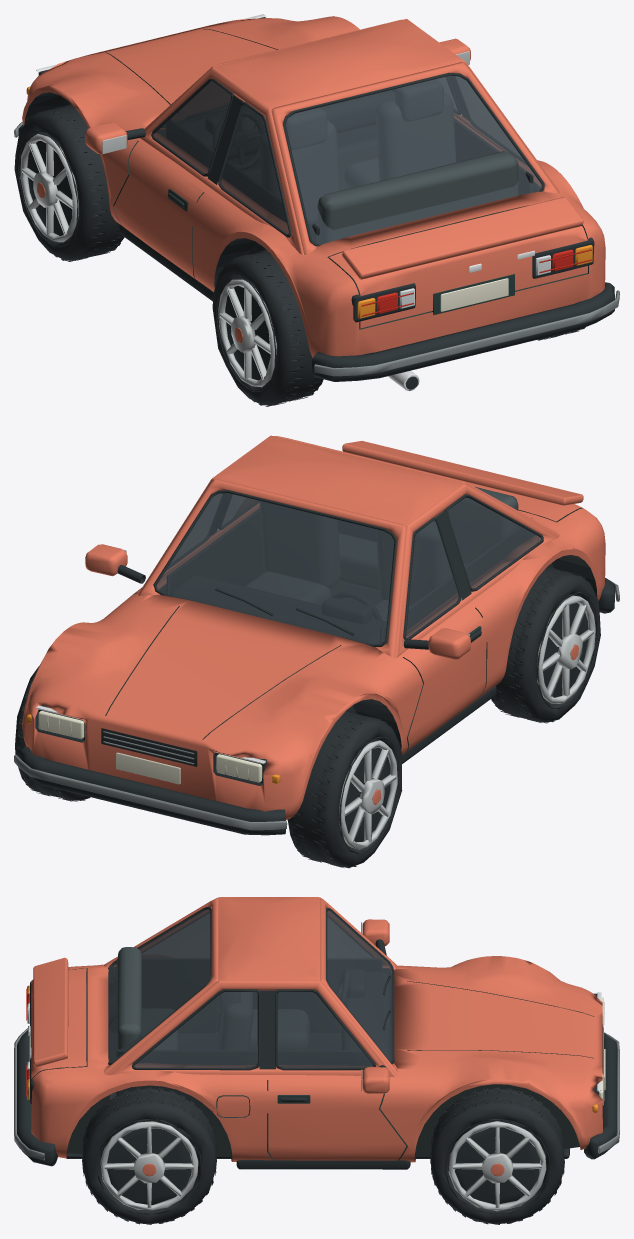
File: comet_lod2.fbx
The picture shows the model from 3 angles, top to bottom: view 1: azimuth 30°, elevation 25°; view 2: azimuth 150°, elevation 25°; view 3: azimuth 270°, elevation 25°; orthographic projection. The views are drawn at different scales.
Visible parts, largest first — view 1: Body, Wheel_RL_Mesh, Wheel_FL_Mesh; view 2: Body, Wheel_FL_Mesh, Wheel_RL_Mesh, Wheel_FR_Mesh; view 3: Body, Wheel_RR_Mesh, Wheel_FR_Mesh.
Part boxes in pixels (bbox=[...]): Body: bbox=[14, 14, 619, 391]; Wheel_RL_Mesh: bbox=[212, 250, 323, 406]; Wheel_FL_Mesh: bbox=[14, 104, 124, 261]; Body: bbox=[14, 435, 619, 835]; Wheel_FL_Mesh: bbox=[287, 711, 402, 868]; Wheel_RL_Mesh: bbox=[491, 567, 600, 723]; Wheel_FR_Mesh: bbox=[15, 666, 90, 801]; Body: bbox=[14, 897, 619, 1169]; Wheel_RR_Mesh: bbox=[82, 1087, 216, 1224]; Wheel_FR_Mesh: bbox=[430, 1087, 564, 1224].
Bounding box in the file's own units: 232 × 153 × 369.
